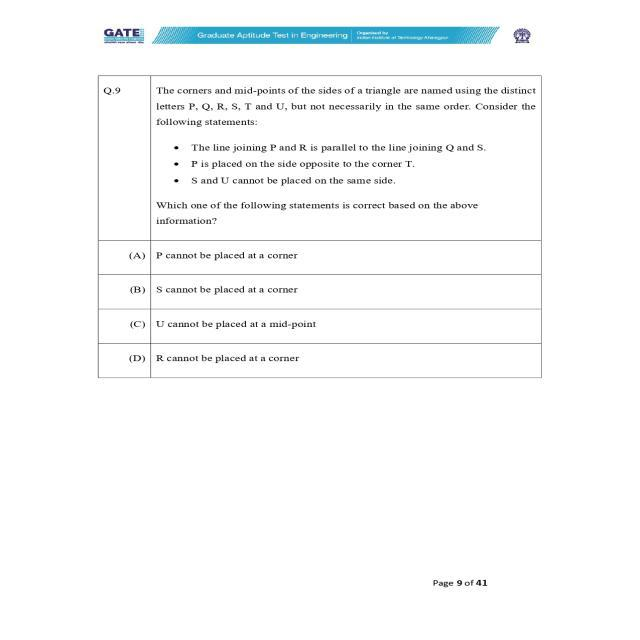Answer_Block: (98, 240, 542, 378)
Question_Answer_Block: (99, 76, 542, 379)
Question_Block: (98, 76, 542, 240)
Question_Paper_Area: (99, 76, 541, 378)
